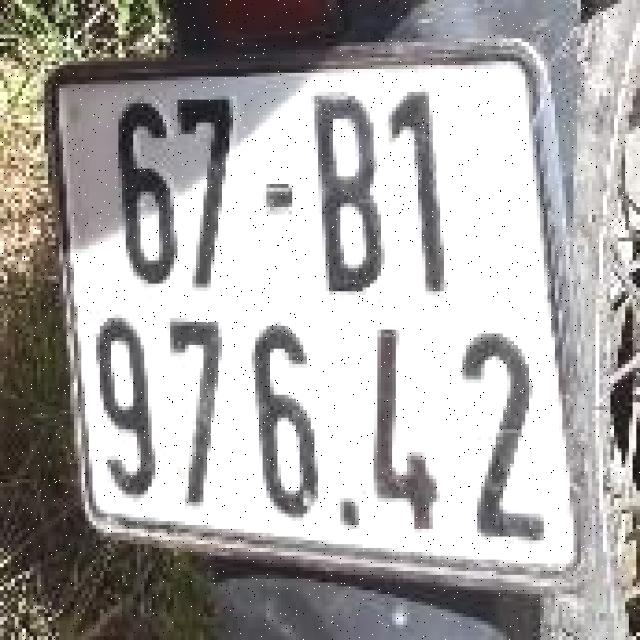1: (381, 85, 473, 300)
2: (447, 325, 560, 551)
4: (352, 320, 456, 542)
6: (240, 317, 328, 528), (106, 97, 183, 296)
7: (153, 310, 245, 520), (170, 93, 252, 298)
9: (85, 309, 170, 510)
B: (302, 85, 402, 303)
